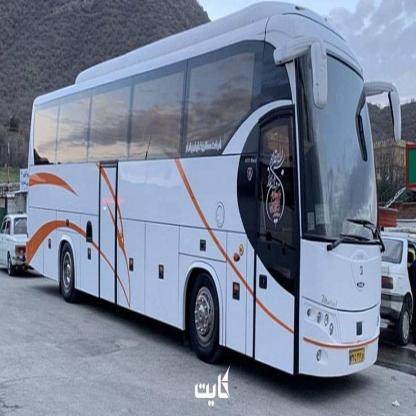Bus: (27, 0, 383, 397)
Car: (380, 218, 416, 343), (2, 204, 31, 288)
